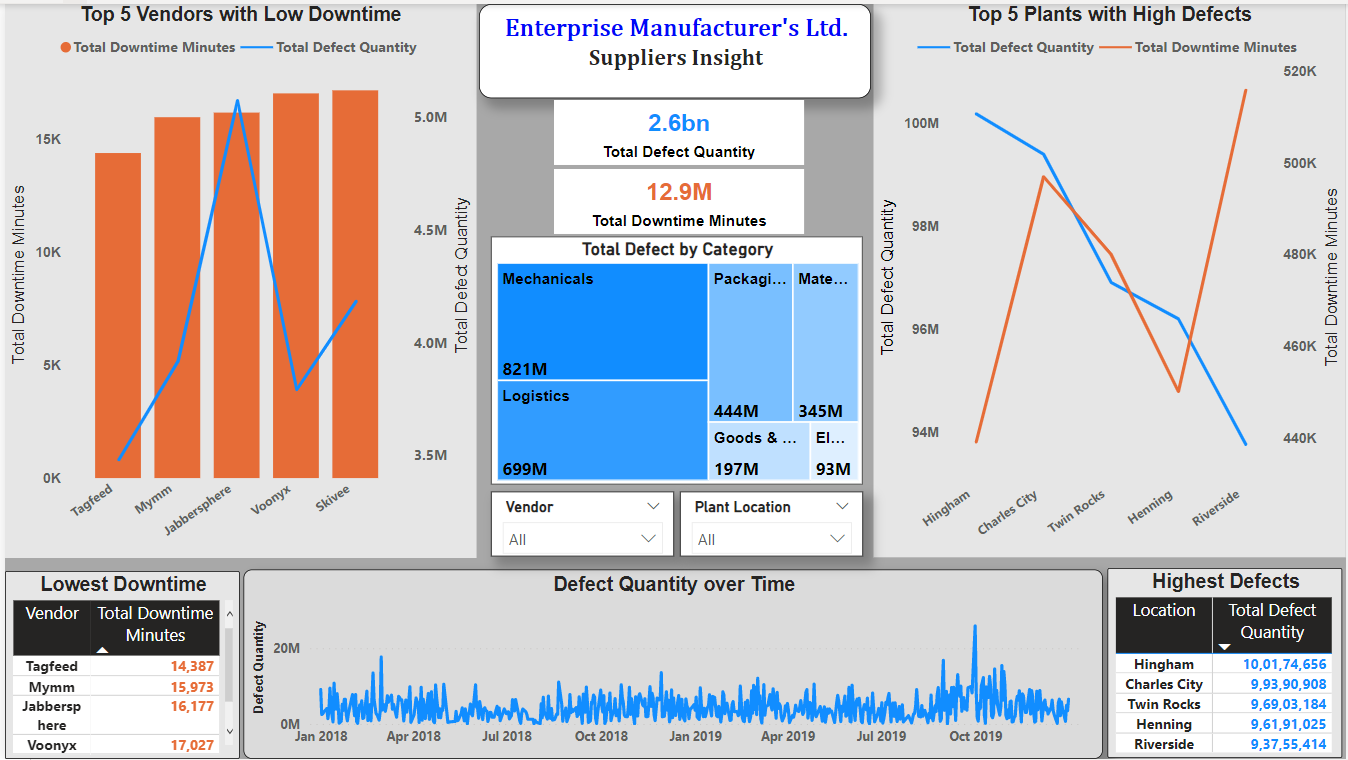

The page's visual inventory and layout, read from the dashboard file:
{"tool":"powerbi","page":{"name":"Dashboard","canvas":[1280,720],"ordinal":0},"visuals":[{"type":"lineChart","title":"Defect Quantity over Time","fields":{"Y":["Sum(SupplierQuality.Total Defect Qty)"],"Category":["SupplierQuality.Date"]},"box":[228,539.6,820,180.4],"z":0},{"type":"lineChart","title":"Top 5 Plants with High Defects","fields":{"Category":["SupplierQuality.Plant Location"],"Y":["Sum(SupplierQuality.Total Defect Qty)"],"Y2":["Sum(SupplierQuality.Total Downtime Minutes)"]},"box":[829.1,0,450.9,528.2],"z":1000},{"type":"tableEx","title":"Highest Defects","fields":{"Values":["SupplierQuality.Plant Location","Sum(SupplierQuality.Total Defect Qty)"]},"box":[1052.2,538.8,224.1,181.2],"z":2000},{"type":"lineStackedColumnComboChart","title":"Top 5 Vendors with Low Downtime","fields":{"Category":["SupplierQuality.Vendor"],"Y":["Sum(SupplierQuality.Total Downtime Minutes)"],"Y2":["Sum(SupplierQuality.Total Defect Qty)"]},"box":[0,0,450,528.4],"z":3000},{"type":"tableEx","title":"Lowest Downtime","fields":{"Values":["SupplierQuality.Vendor","Sum(SupplierQuality.Total Downtime Minutes)"]},"box":[0,540.4,224,179.6],"z":4000},{"type":"slicer","fields":{"Values":["SupplierQuality.Vendor"]},"box":[464.1,465.7,174.8,62],"z":5000},{"type":"treemap","title":"Total Defect by Category","fields":{"Group":["SupplierQuality.Category"],"Values":["Sum(SupplierQuality.Total Defect Qty)"]},"box":[464.1,222.5,354.4,236.8],"z":6000},{"type":"slicer","fields":{"Values":["SupplierQuality.Plant Location"]},"box":[643.7,465.7,174.8,62],"z":7000},{"type":"textbox","box":[453,0,374,90],"z":8000},{"type":"card","fields":{"Values":["Sum(SupplierQuality.Total Downtime Minutes)"]},"box":[524.5,157.4,238.4,62],"z":9000},{"type":"card","fields":{"Values":["Sum(SupplierQuality.Total Defect Qty)"]},"box":[524.5,92.2,238.4,62],"z":10000}]}

Visuals, with their boxes in screenshot pixels (x1, y1, x2, y2), scaled from the page's 1280x720 canvas onto the 1348x760 screenshot:
"Defect Quantity over Time" lineChart: 240, 570, 1104, 759
"Top 5 Plants with High Defects" lineChart: 873, 0, 1347, 558
"Highest Defects" tableEx: 1108, 569, 1344, 759
"Top 5 Vendors with Low Downtime" lineStackedColumnComboChart: 0, 0, 474, 558
"Lowest Downtime" tableEx: 0, 570, 236, 759
slicer - SupplierQuality.Vendor: 489, 492, 673, 557
"Total Defect by Category" treemap: 489, 235, 862, 485
slicer - SupplierQuality.Plant Location: 678, 492, 862, 557
textbox: 477, 0, 871, 95
card - Sum(SupplierQuality.Total Downtime Minutes): 552, 166, 803, 232
card - Sum(SupplierQuality.Total Defect Qty): 552, 97, 803, 163
